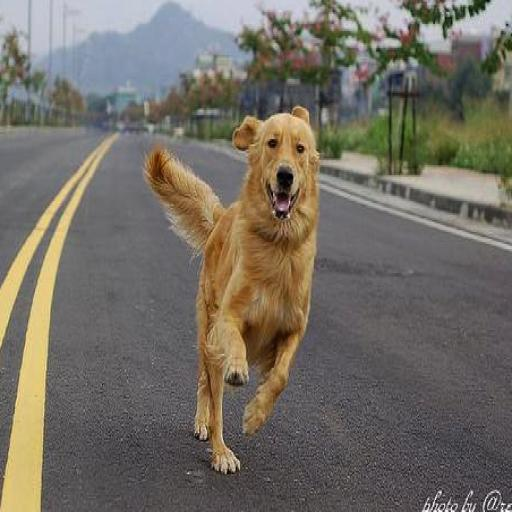dog_face: (228, 105, 318, 225)
